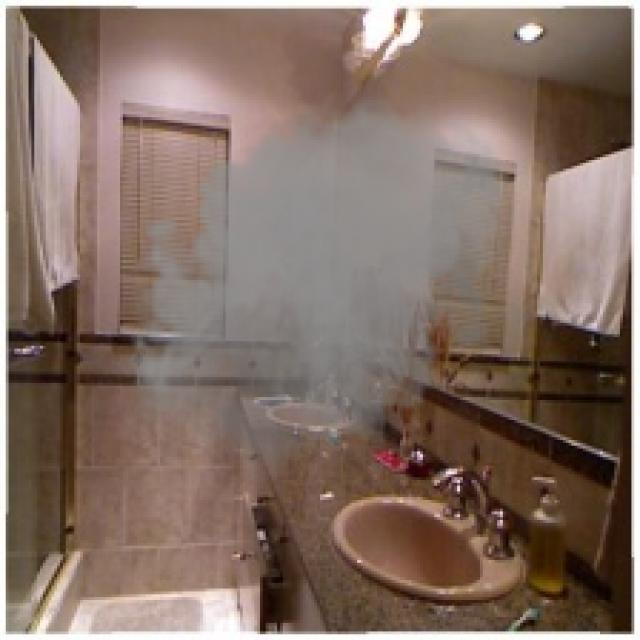Smoke: (117, 82, 514, 494)
